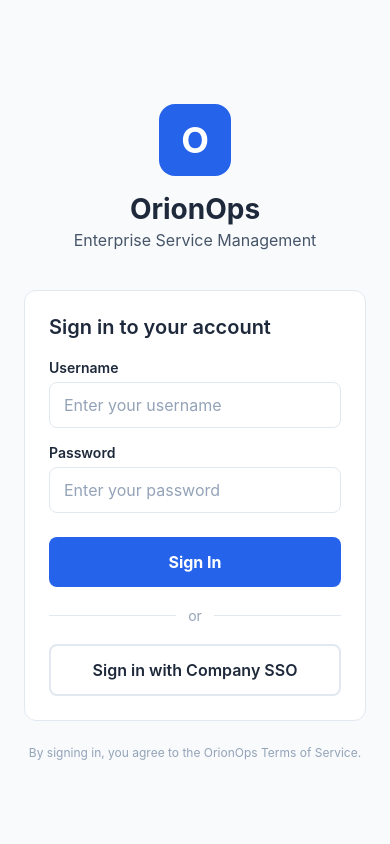
Test: LoginScreen › shows error when submitting empty fields
The image size is (390, 844).
Step 1. Click the button labelled "Sign In" → point(195, 562), box top-left (49, 537), bottom-right (341, 587)
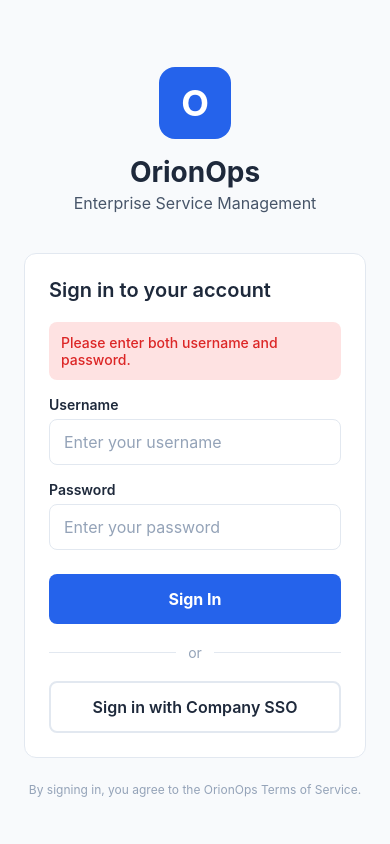
Expected: the text "Please enter both username and password." is shown, top-left (61, 334), bottom-right (281, 368)
